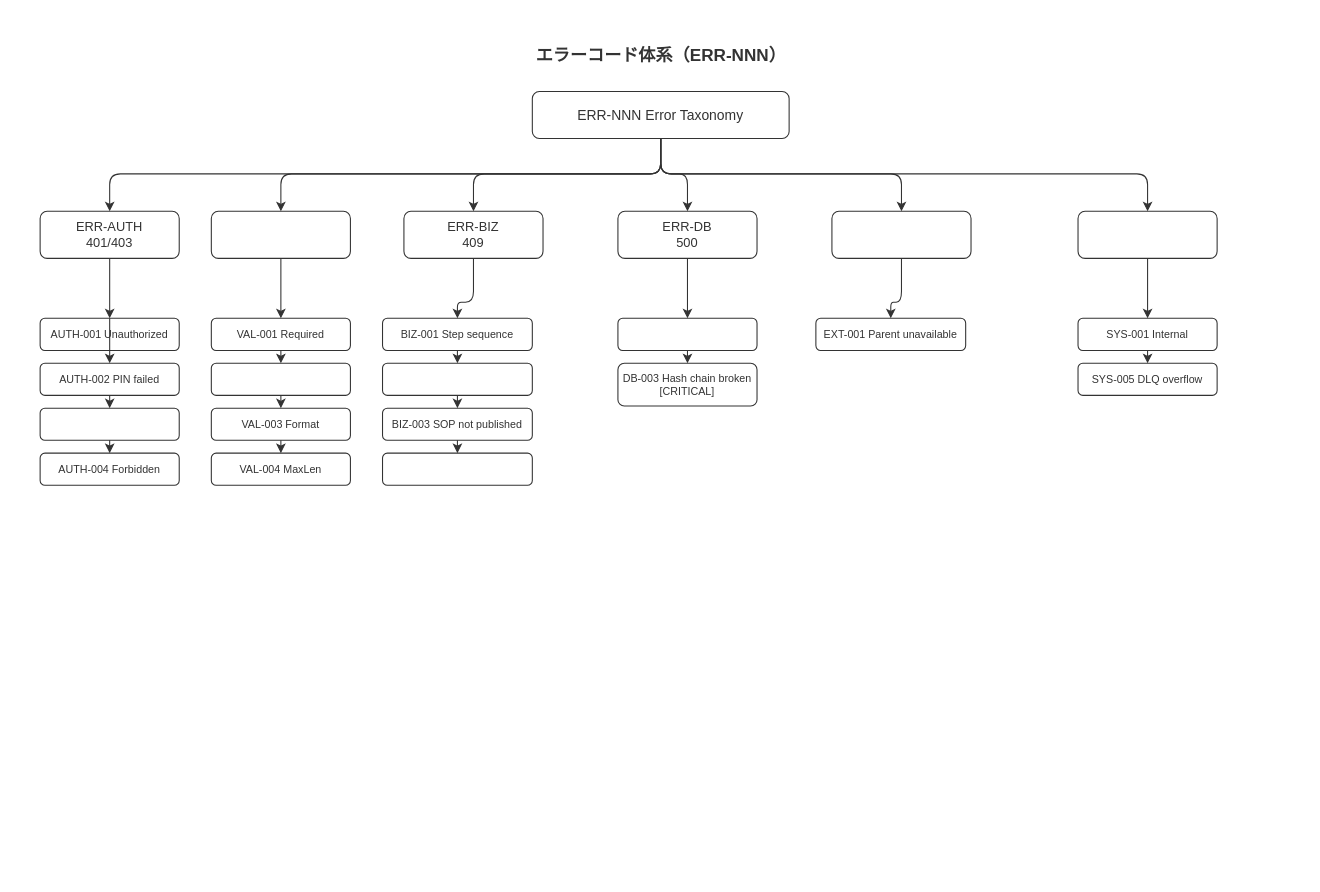
Image size: 1320x892. Some labels were removed from this diagram. The box of each missing label's shape, as (x1, y1, x2, y2) in pixels:
AUTH-003 Locked: (39, 407, 179, 440)
BIZ-002 Evidence gate: (381, 362, 532, 395)
BIZ-006 Skill insufficient: (381, 452, 532, 485)
DB-001 DB error: (617, 317, 757, 350)
ERR-EXT 503: (831, 210, 971, 258)
ERR-SYS 500: (1077, 210, 1217, 258)
ERR-VAL 422: (210, 210, 350, 258)
VAL-002 Range: (210, 362, 350, 395)
